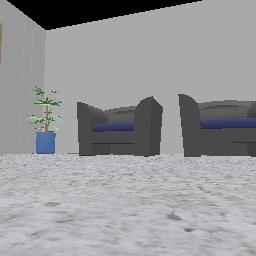fotoliu: (77, 96, 162, 155), (179, 94, 255, 156)
planta: (27, 86, 62, 153)
